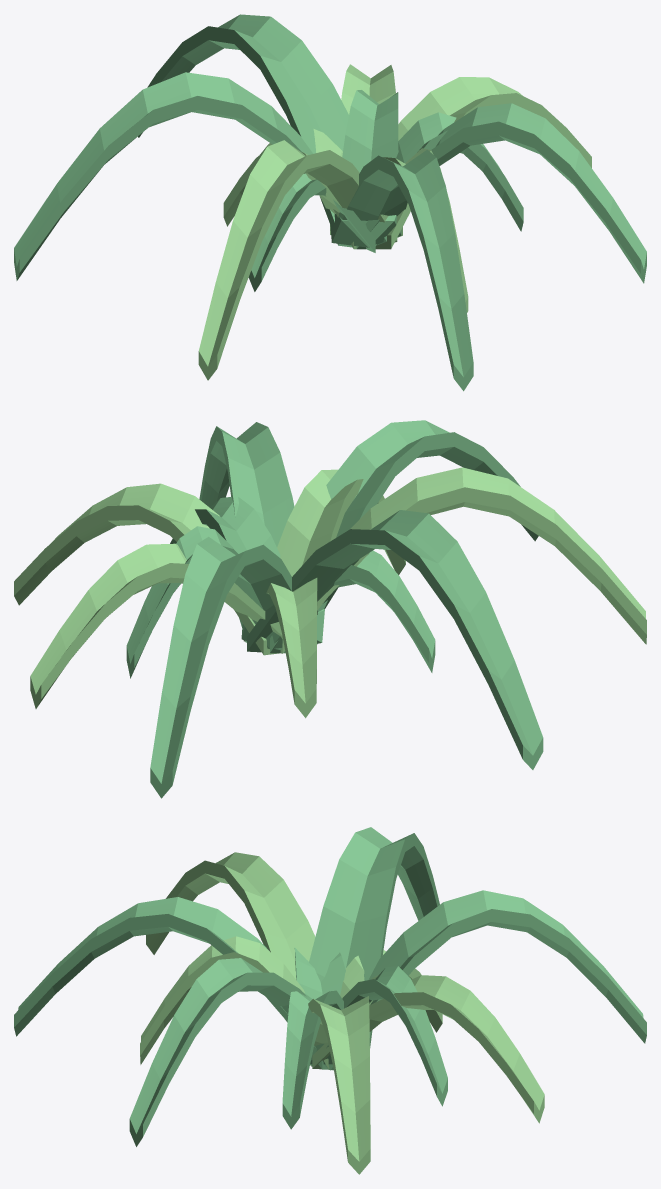
File: ASTX_VEG_FERN_A.glb
3 views of the same model, one above another, from view 1: azimuth 30°, elevation 25°; view 2: azimuth 150°, elevation 25°; view 3: azimuth 270°, elevation 25° (orthographic). The views are drawn at different scales.
Parts seen in each view (by area): view 1: ASTX_VEG_FERN_A_fr04, ASTX_VEG_FERN_A_fr03, ASTX_VEG_FERN_A_fr02, ASTX_VEG_FERN_A_fr05, ASTX_VEG_FERN_A_fr01, ASTX_VEG_FERN_A_fr00, ASTX_VEG_FERN_A_fr11, ASTX_VEG_FERN_A_fr07, ASTX_VEG_FERN_A_fr09, ASTX_VEG_FERN_A_fr06, ASTX_VEG_FERN_A_fr10, ASTX_VEG_FERN_A_bud; view 2: ASTX_VEG_FERN_A_fr04, ASTX_VEG_FERN_A_fr05, ASTX_VEG_FERN_A_fr03, ASTX_VEG_FERN_A_fr06, ASTX_VEG_FERN_A_fr02, ASTX_VEG_FERN_A_fr00, ASTX_VEG_FERN_A_fr01, ASTX_VEG_FERN_A_fr08, ASTX_VEG_FERN_A_fr10, ASTX_VEG_FERN_A_fr09, ASTX_VEG_FERN_A_fr11, ASTX_VEG_FERN_A_fr07; view 3: ASTX_VEG_FERN_A_fr04, ASTX_VEG_FERN_A_fr05, ASTX_VEG_FERN_A_fr02, ASTX_VEG_FERN_A_fr03, ASTX_VEG_FERN_A_fr01, ASTX_VEG_FERN_A_fr06, ASTX_VEG_FERN_A_fr00, ASTX_VEG_FERN_A_fr11, ASTX_VEG_FERN_A_fr08, ASTX_VEG_FERN_A_fr07, ASTX_VEG_FERN_A_fr09, ASTX_VEG_FERN_A_fr10.
Boxes of the visible parts, x1,y1,x2,y2 form: ASTX_VEG_FERN_A_fr04: (14, 72, 375, 280); ASTX_VEG_FERN_A_fr03: (198, 140, 397, 380); ASTX_VEG_FERN_A_fr02: (339, 149, 473, 391); ASTX_VEG_FERN_A_fr05: (138, 14, 352, 247); ASTX_VEG_FERN_A_fr01: (356, 103, 646, 283); ASTX_VEG_FERN_A_fr00: (375, 77, 591, 249); ASTX_VEG_FERN_A_fr11: (342, 90, 398, 237); ASTX_VEG_FERN_A_fr07: (375, 112, 523, 245); ASTX_VEG_FERN_A_fr09: (248, 173, 386, 291); ASTX_VEG_FERN_A_fr06: (330, 64, 402, 237); ASTX_VEG_FERN_A_fr10: (223, 129, 356, 249); ASTX_VEG_FERN_A_bud: (330, 214, 401, 247); ASTX_VEG_FERN_A_fr04: (247, 510, 543, 769); ASTX_VEG_FERN_A_fr05: (150, 536, 317, 798); ASTX_VEG_FERN_A_fr03: (281, 467, 646, 653); ASTX_VEG_FERN_A_fr06: (30, 543, 285, 708); ASTX_VEG_FERN_A_fr02: (317, 420, 538, 612); ASTX_VEG_FERN_A_fr00: (14, 483, 278, 655); ASTX_VEG_FERN_A_fr01: (199, 422, 294, 642); ASTX_VEG_FERN_A_fr08: (277, 469, 405, 576); ASTX_VEG_FERN_A_fr10: (243, 578, 317, 718); ASTX_VEG_FERN_A_fr09: (270, 550, 435, 672); ASTX_VEG_FERN_A_fr11: (126, 526, 285, 678); ASTX_VEG_FERN_A_fr07: (170, 496, 280, 557); ASTX_VEG_FERN_A_fr04: (309, 827, 439, 1047); ASTX_VEG_FERN_A_fr05: (331, 890, 646, 1070); ASTX_VEG_FERN_A_fr02: (14, 897, 327, 1069); ASTX_VEG_FERN_A_fr03: (146, 852, 315, 1065); ASTX_VEG_FERN_A_fr01: (129, 958, 306, 1146); ASTX_VEG_FERN_A_fr06: (312, 975, 544, 1123); ASTX_VEG_FERN_A_fr00: (308, 996, 370, 1174); ASTX_VEG_FERN_A_fr11: (311, 966, 447, 1106); ASTX_VEG_FERN_A_fr08: (140, 936, 329, 1069); ASTX_VEG_FERN_A_fr07: (282, 990, 343, 1129); ASTX_VEG_FERN_A_fr09: (294, 947, 345, 999); ASTX_VEG_FERN_A_fr10: (340, 950, 442, 1032).
Bounding box in the file's own units: 1.19 × 0.3878 × 1.33.
